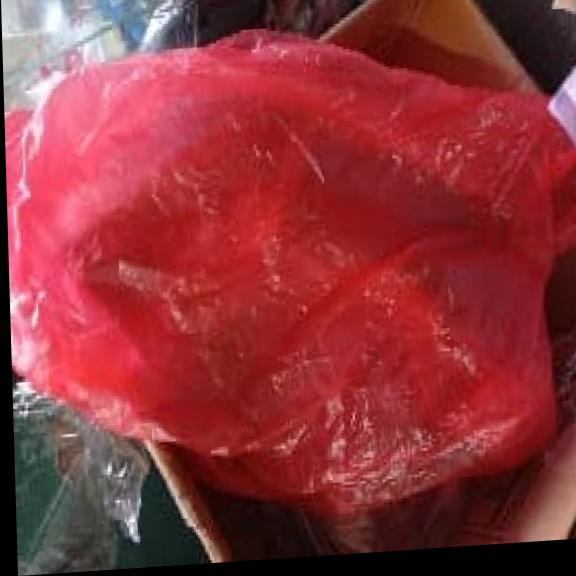Plastik: (9, 36, 558, 512)
